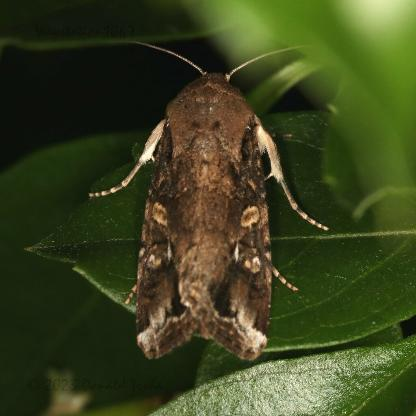Fall Armyworm Moth: (86, 40, 332, 364)
